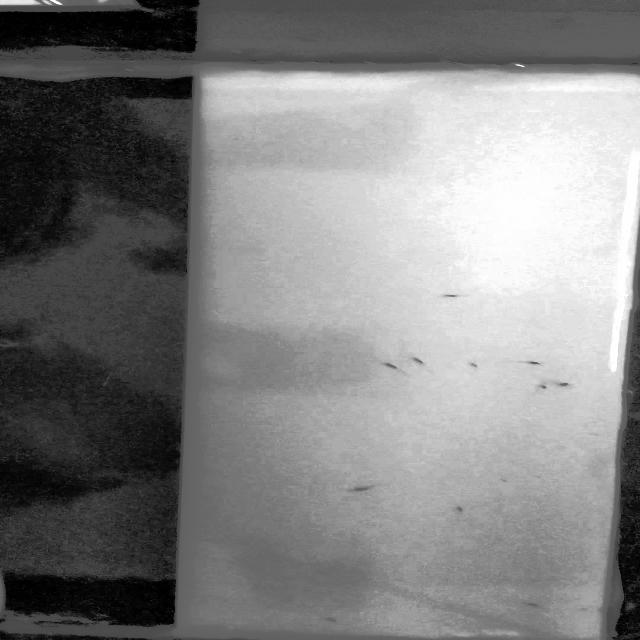shrimp: (353, 483, 387, 502), (371, 358, 404, 372), (519, 598, 549, 612), (438, 289, 466, 303), (522, 357, 548, 372), (532, 381, 556, 394), (414, 352, 429, 371), (558, 380, 589, 389)
